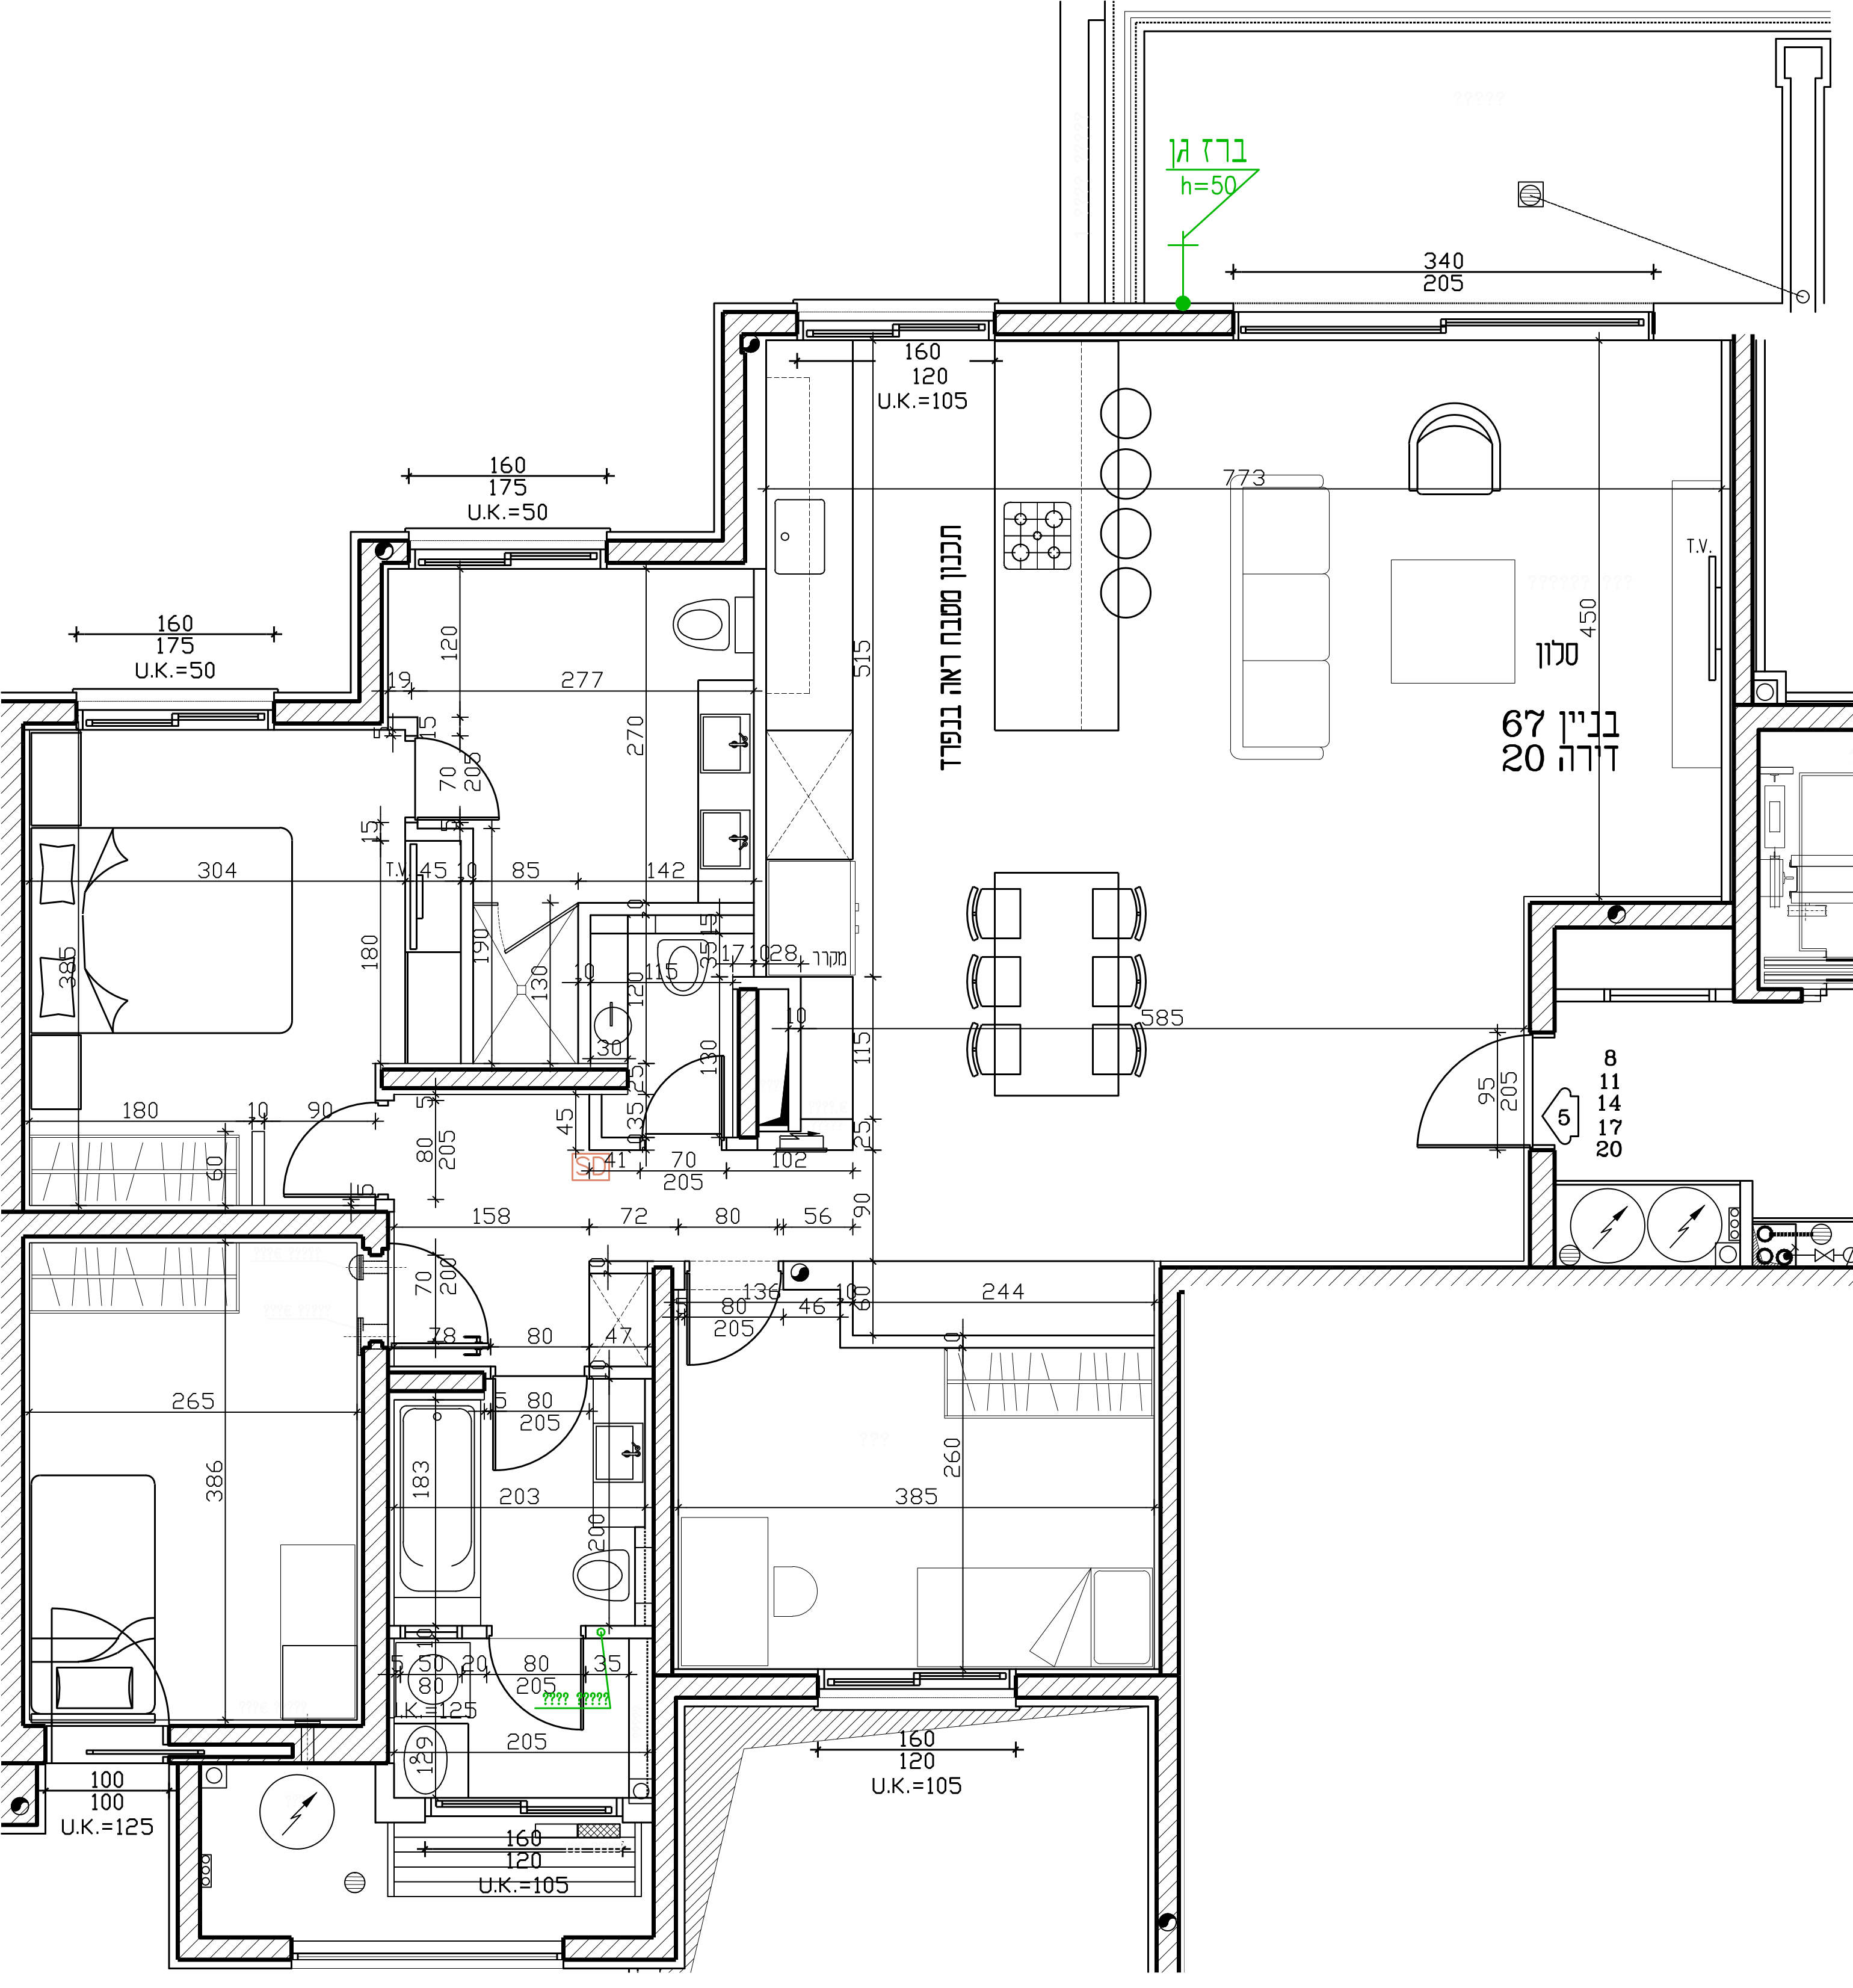door: (1400, 1016, 1524, 1160), (475, 1636, 615, 1749), (618, 1033, 738, 1139), (481, 1382, 599, 1488), (674, 1289, 792, 1396), (270, 1089, 373, 1204)
wall: (362, 1347, 392, 1765), (0, 1211, 387, 1239), (2, 702, 23, 1213), (1733, 706, 1759, 1005), (724, 312, 744, 565)
window: (1235, 305, 1653, 341), (77, 692, 273, 728), (798, 301, 996, 336), (411, 530, 608, 565), (822, 1669, 1019, 1704), (423, 1795, 622, 1824)
